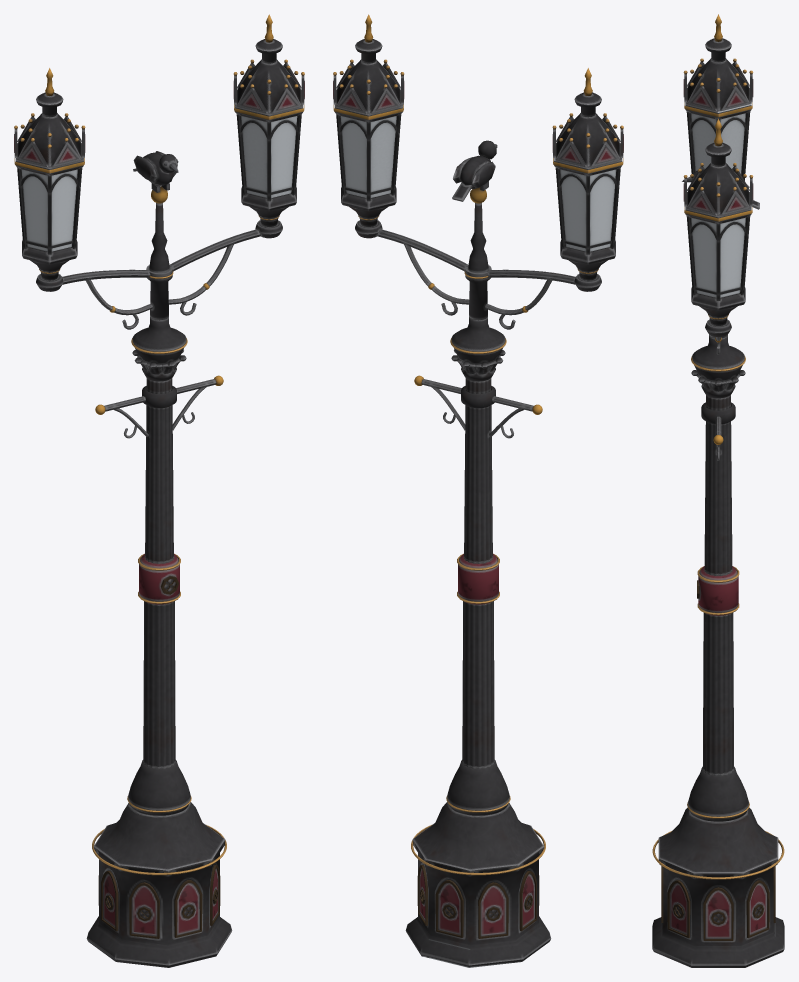
File: GasLampTwin.fbx
3 views of the same model, side by side, from view 1: azimuth 30°, elevation 25°; view 2: azimuth 150°, elevation 25°; view 3: azimuth 270°, elevation 25° (orthographic). The views are drawn at different scales.
Parts seen in each view (by area): view 1: GasLampTwin_Main, GasLampTwin_Glass; view 2: GasLampTwin_Main, GasLampTwin_Glass; view 3: GasLampTwin_Main, GasLampTwin_Glass.
Part boxes in pixels (x1,y1,x2,y2): GasLampTwin_Main: (14, 14, 304, 967); GasLampTwin_Glass: (21, 116, 297, 251); GasLampTwin_Main: (333, 14, 623, 967); GasLampTwin_Glass: (340, 116, 616, 251); GasLampTwin_Main: (652, 14, 784, 967); GasLampTwin_Glass: (691, 113, 745, 297).
Bounding box in the file's own units: 383 × 1133 × 155.
